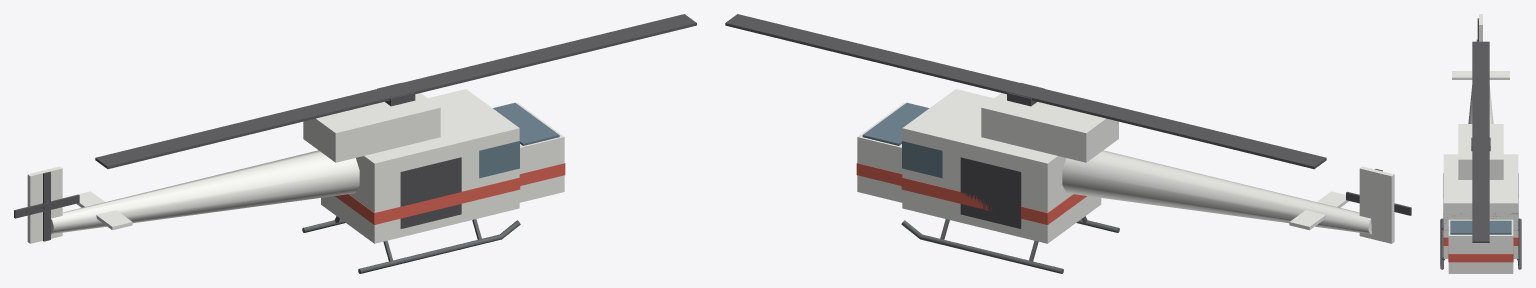
The model's file is helicopter_rescue.glb.
The picture shows the model from 3 angles, left to right: view 1: azimuth 30°, elevation 25°; view 2: azimuth 150°, elevation 25°; view 3: azimuth 270°, elevation 25°; orthographic projection. The views are drawn at different scales.
Bounding box in the file's own units: 16.8 × 3.6 × 2.52.
